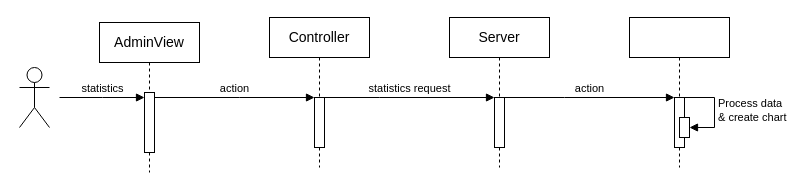
This 808x190 diagram has some shape labels left out. Here are the shapes that lost their labels. From the top down, the centre of each, then its label:
At point (34, 97): "Admin".
At point (679, 92): "Model".
